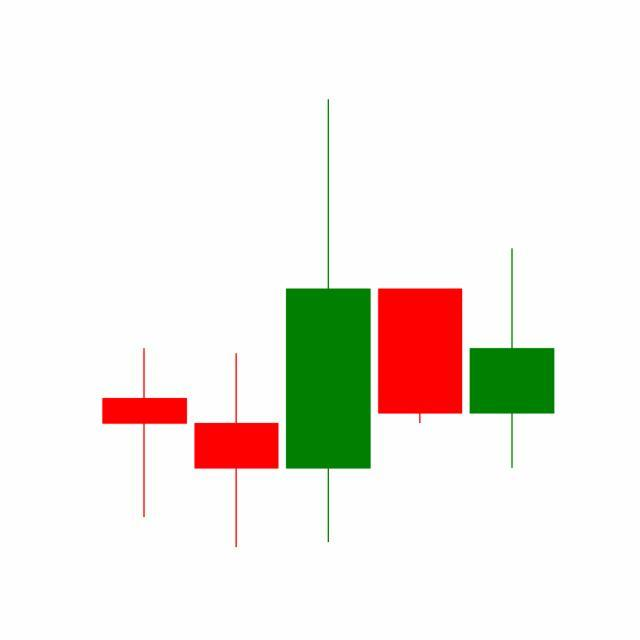Marubozu: (374, 287, 468, 426)
